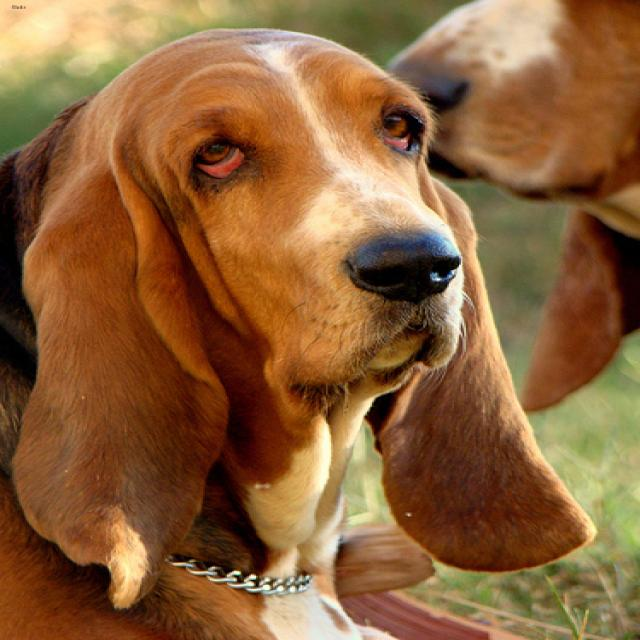dog-basset_hound: (2, 19, 611, 637)
